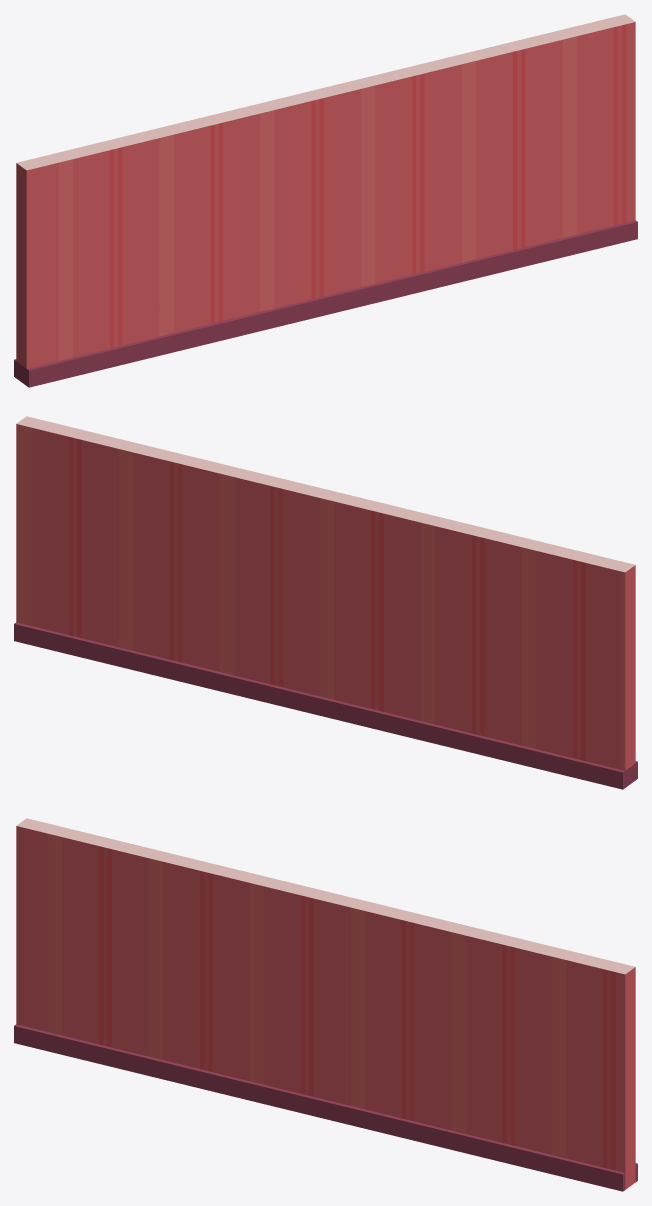
File: Map_bs_Wallside_geo.fbx
3 views of the same model, one above another, from view 1: azimuth 30°, elevation 25°; view 2: azimuth 150°, elevation 25°; view 3: azimuth 330°, elevation 25° (orthographic).
Parts seen in each view (by area): view 1: Map_bs_Wallside_geo; view 2: Map_bs_Wallside_geo; view 3: Map_bs_Wallside_geo.
Part boxes in pixels (<box>): Map_bs_Wallside_geo: <box>14,14,637,387</box>; Map_bs_Wallside_geo: <box>14,416,637,789</box>; Map_bs_Wallside_geo: <box>14,818,637,1191</box>.
Bounding box in the file's own units: 6.03 × 0.2564 × 2.04.
